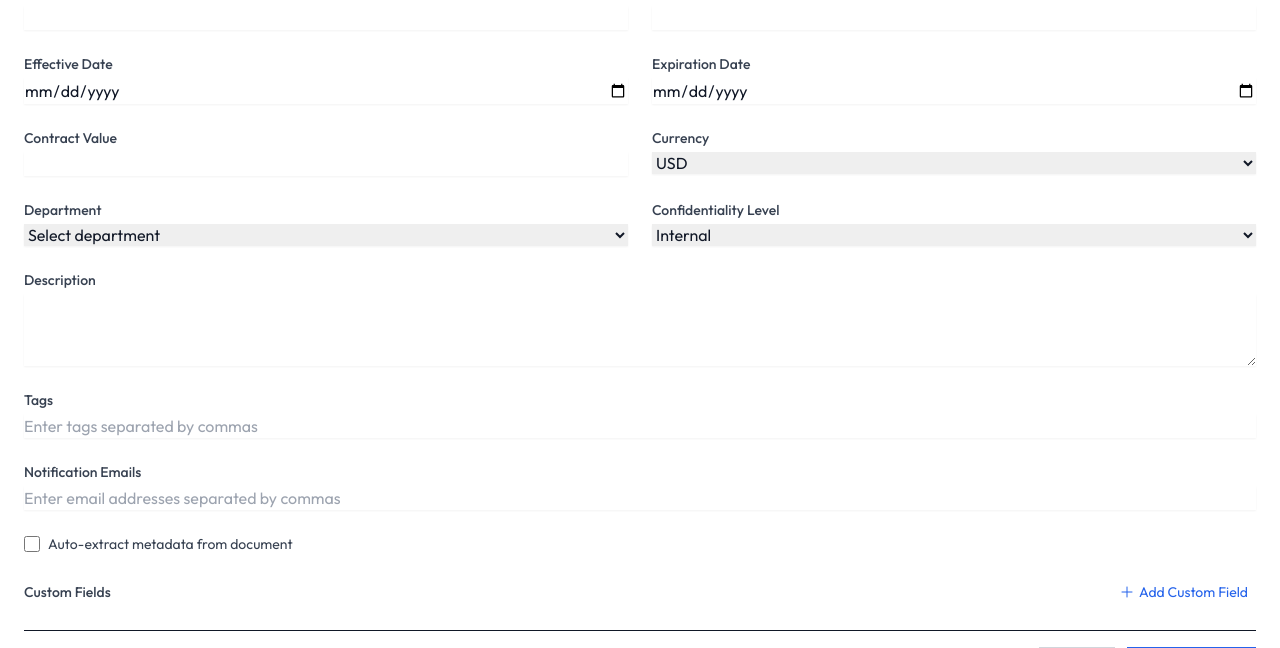
Test: MetadataForm › Custom Fields › should allow adding custom fields
(page scrolled)
Click the button "Add Custom Field" at (1184, 592), box top-left (1111, 578), bottom-right (1256, 606)
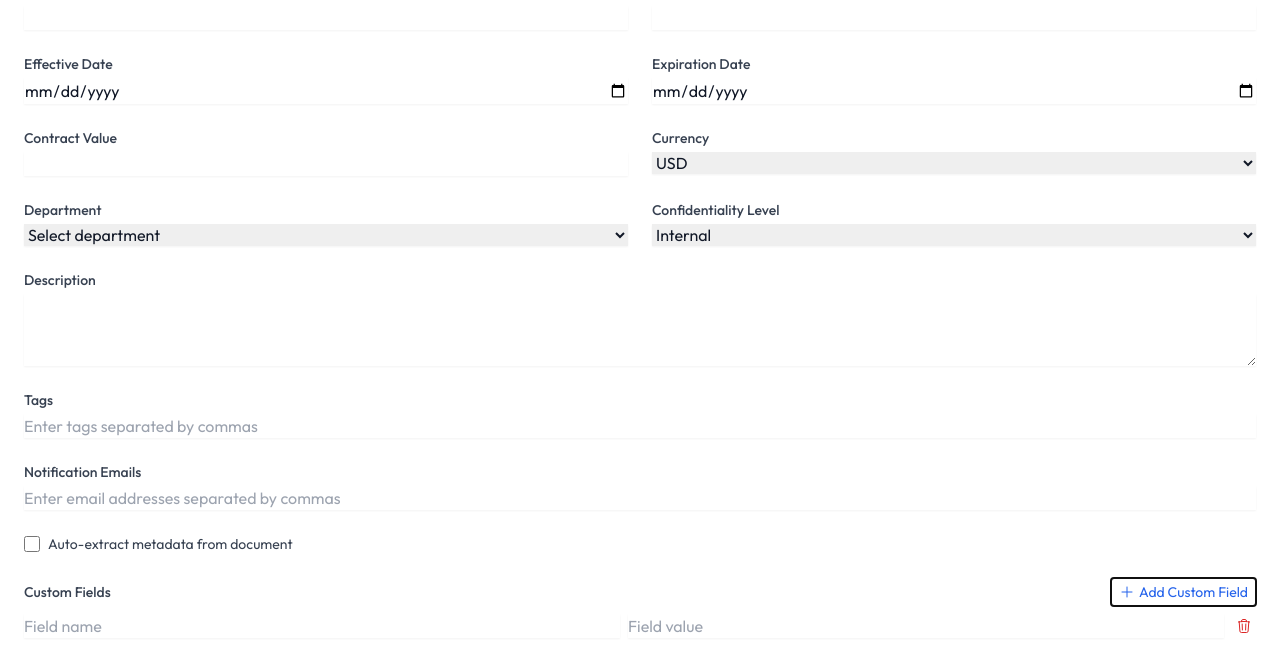
Expected: the field with placeholder "Field name" is shown, top-left (24, 614), bottom-right (620, 638)
Expected: the field with placeholder "Field value" is shown, top-left (628, 614), bottom-right (1224, 638)
